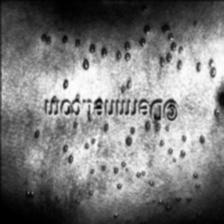Toxin: (39, 22, 185, 72), (144, 194, 174, 218), (212, 92, 224, 121), (124, 126, 134, 146)
